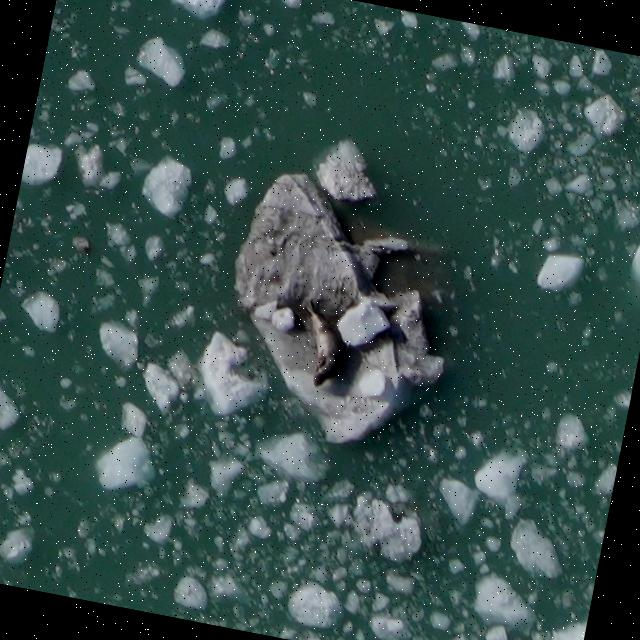seal: (288, 297, 356, 394)
